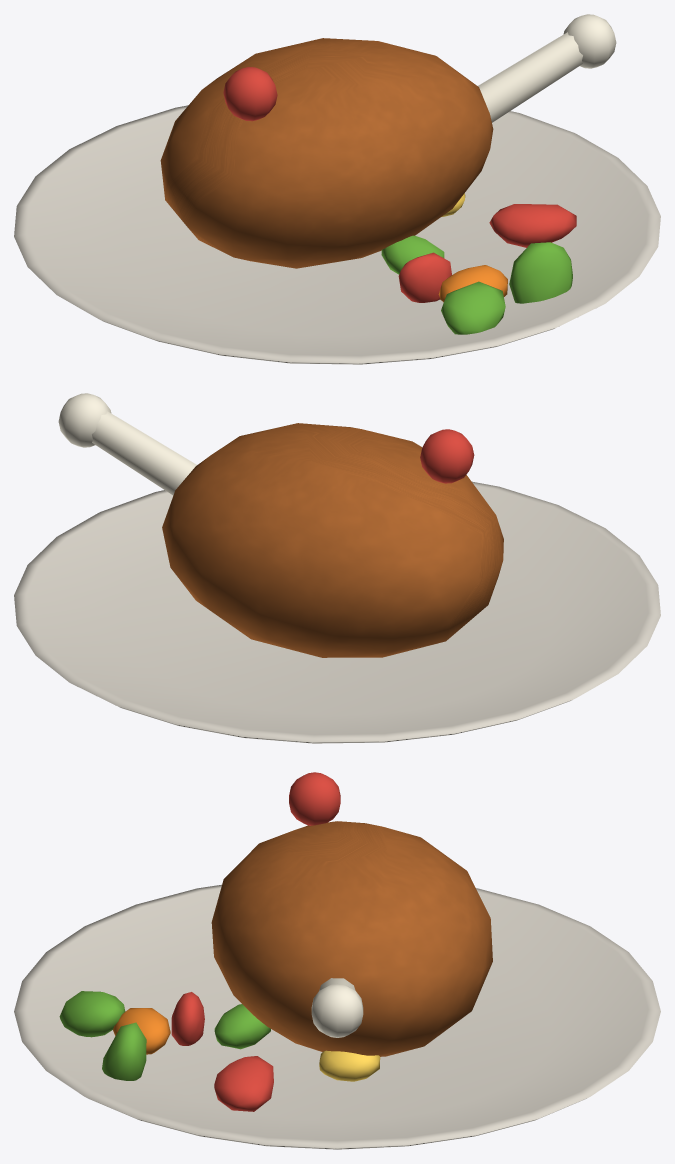
Rendered from roast.glb.
The picture shows the model from 3 angles, top to bottom: view 1: azimuth 30°, elevation 25°; view 2: azimuth 150°, elevation 25°; view 3: azimuth 270°, elevation 25°; orthographic projection.
Parts seen in each view (by area): view 1: roast; view 2: roast; view 3: roast.
Part boxes in pixels (left/top/right/bottom): roast: left=14, top=14, right=660, bottom=364; roast: left=14, top=393, right=660, bottom=743; roast: left=14, top=772, right=660, bottom=1149.
Bounding box in the file's own units: 0.2856 × 0.112 × 0.2856.
Materials: 8 (1 with a texture image).
